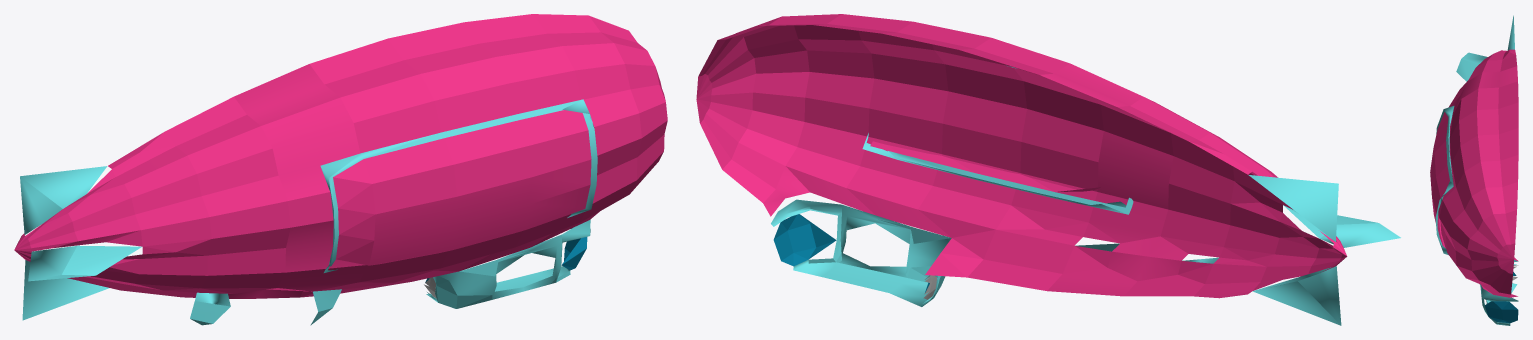
Rendered from Low-Poly_airship.fbx.
3 renders of one model, left to right at view 1: azimuth 30°, elevation 25°; view 2: azimuth 150°, elevation 25°; view 3: azimuth 270°, elevation 25°, orthographic. The views are drawn at different scales.
Parts seen in each view (by area): view 1: baloon; view 2: baloon; view 3: baloon.
Boxes of the visible parts, bbox=[...] form: baloon: bbox=[14, 14, 667, 325]; baloon: bbox=[696, 14, 1400, 325]; baloon: bbox=[1430, 15, 1518, 325].
Size of the model in its own units: 752 by 287 by 136.
